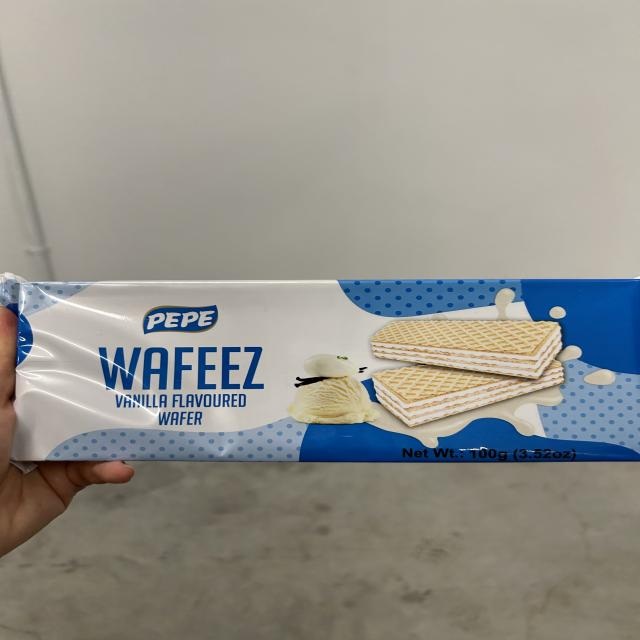object_name: (16, 283, 636, 460)
